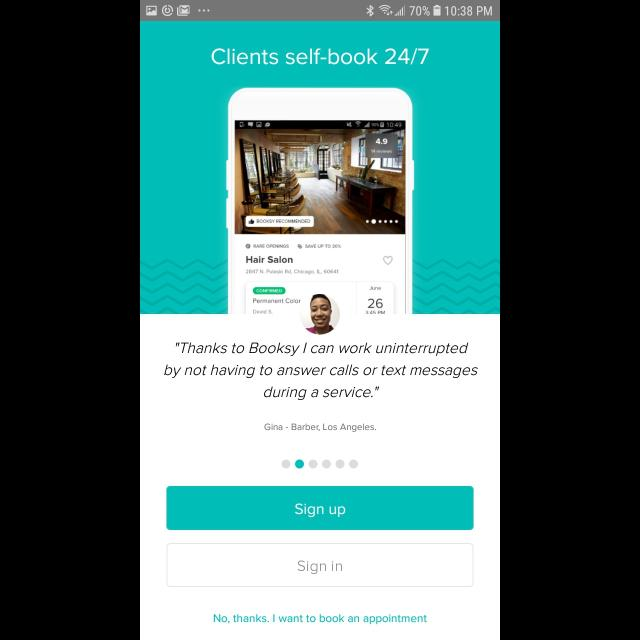image: (226, 88, 414, 314), (300, 294, 340, 334)
pageindicator: (282, 459, 358, 469)
text: (164, 343, 478, 401), (211, 49, 429, 66), (215, 614, 428, 624), (264, 422, 376, 432)
textbutton: (166, 486, 474, 530), (167, 543, 473, 587)
uppertaskbar: (140, 1, 500, 22)
